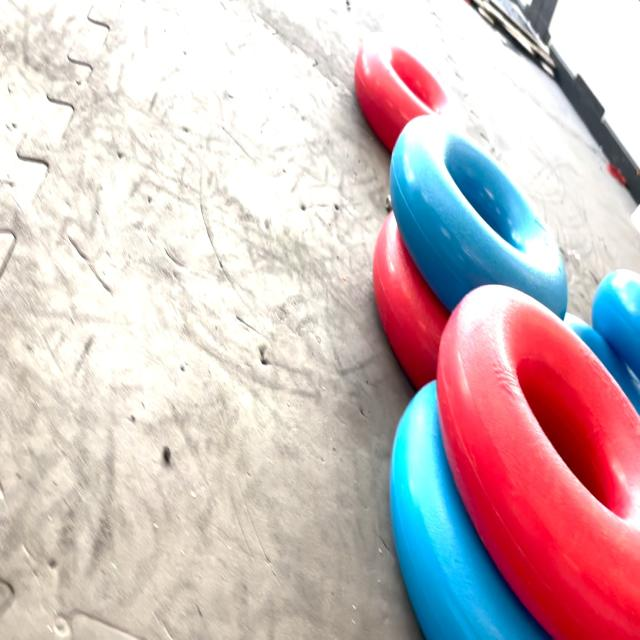Blue-Ring: (390, 382, 549, 640), (390, 116, 568, 318), (592, 269, 640, 379)
Red-Ring: (436, 284, 640, 638), (372, 211, 450, 389), (355, 42, 446, 151)
